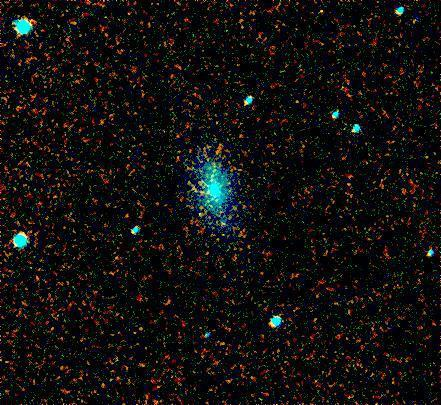star: (189, 196, 219, 226)
